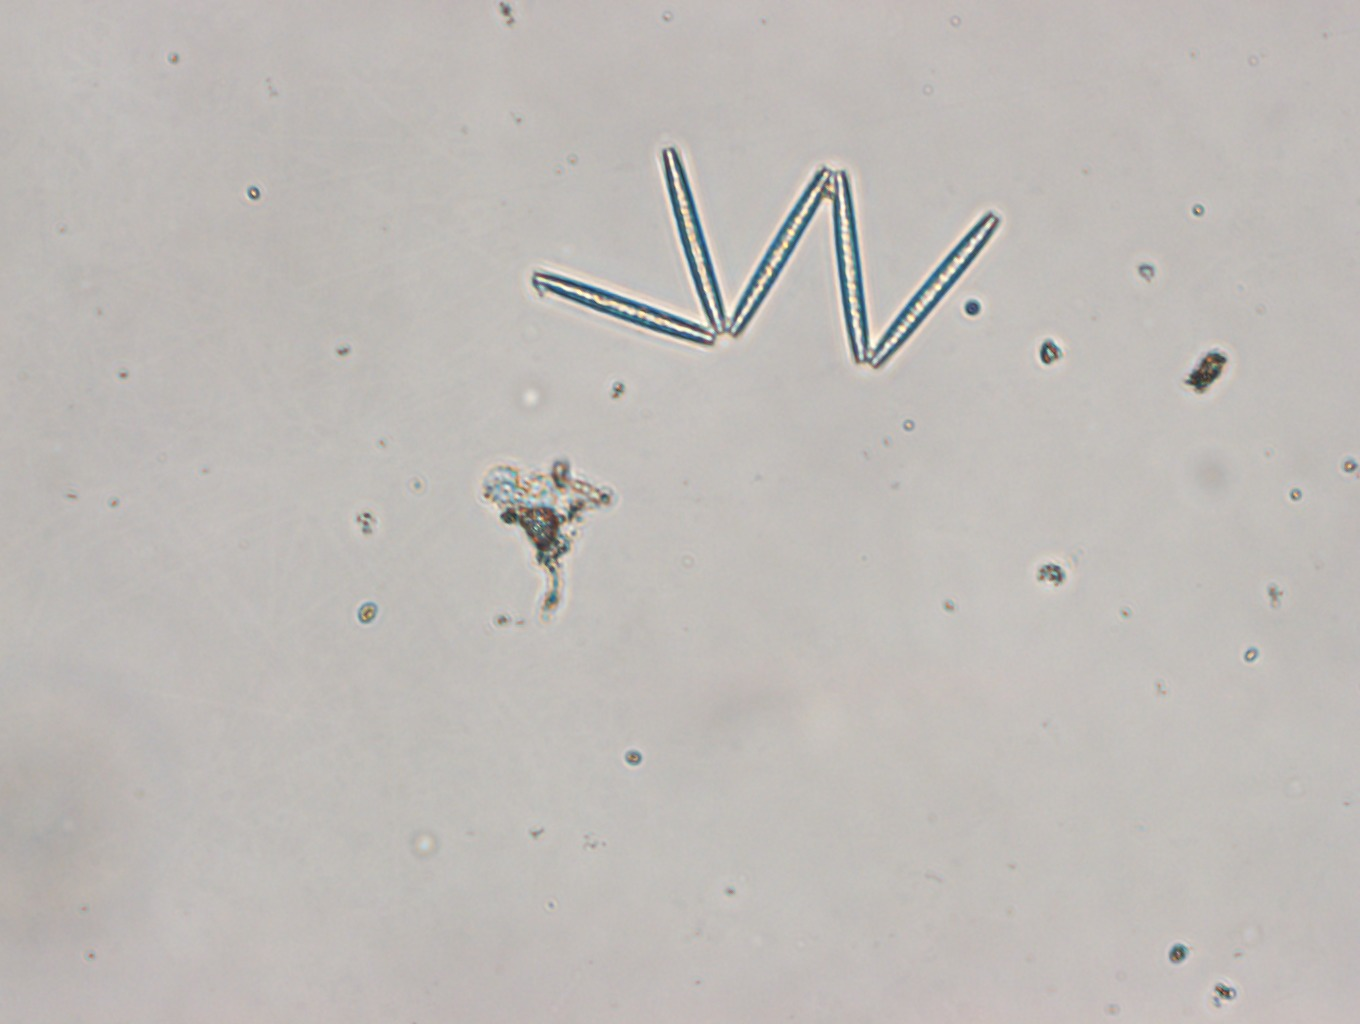thalassionema nitzschioides: (526, 143, 1002, 370)
